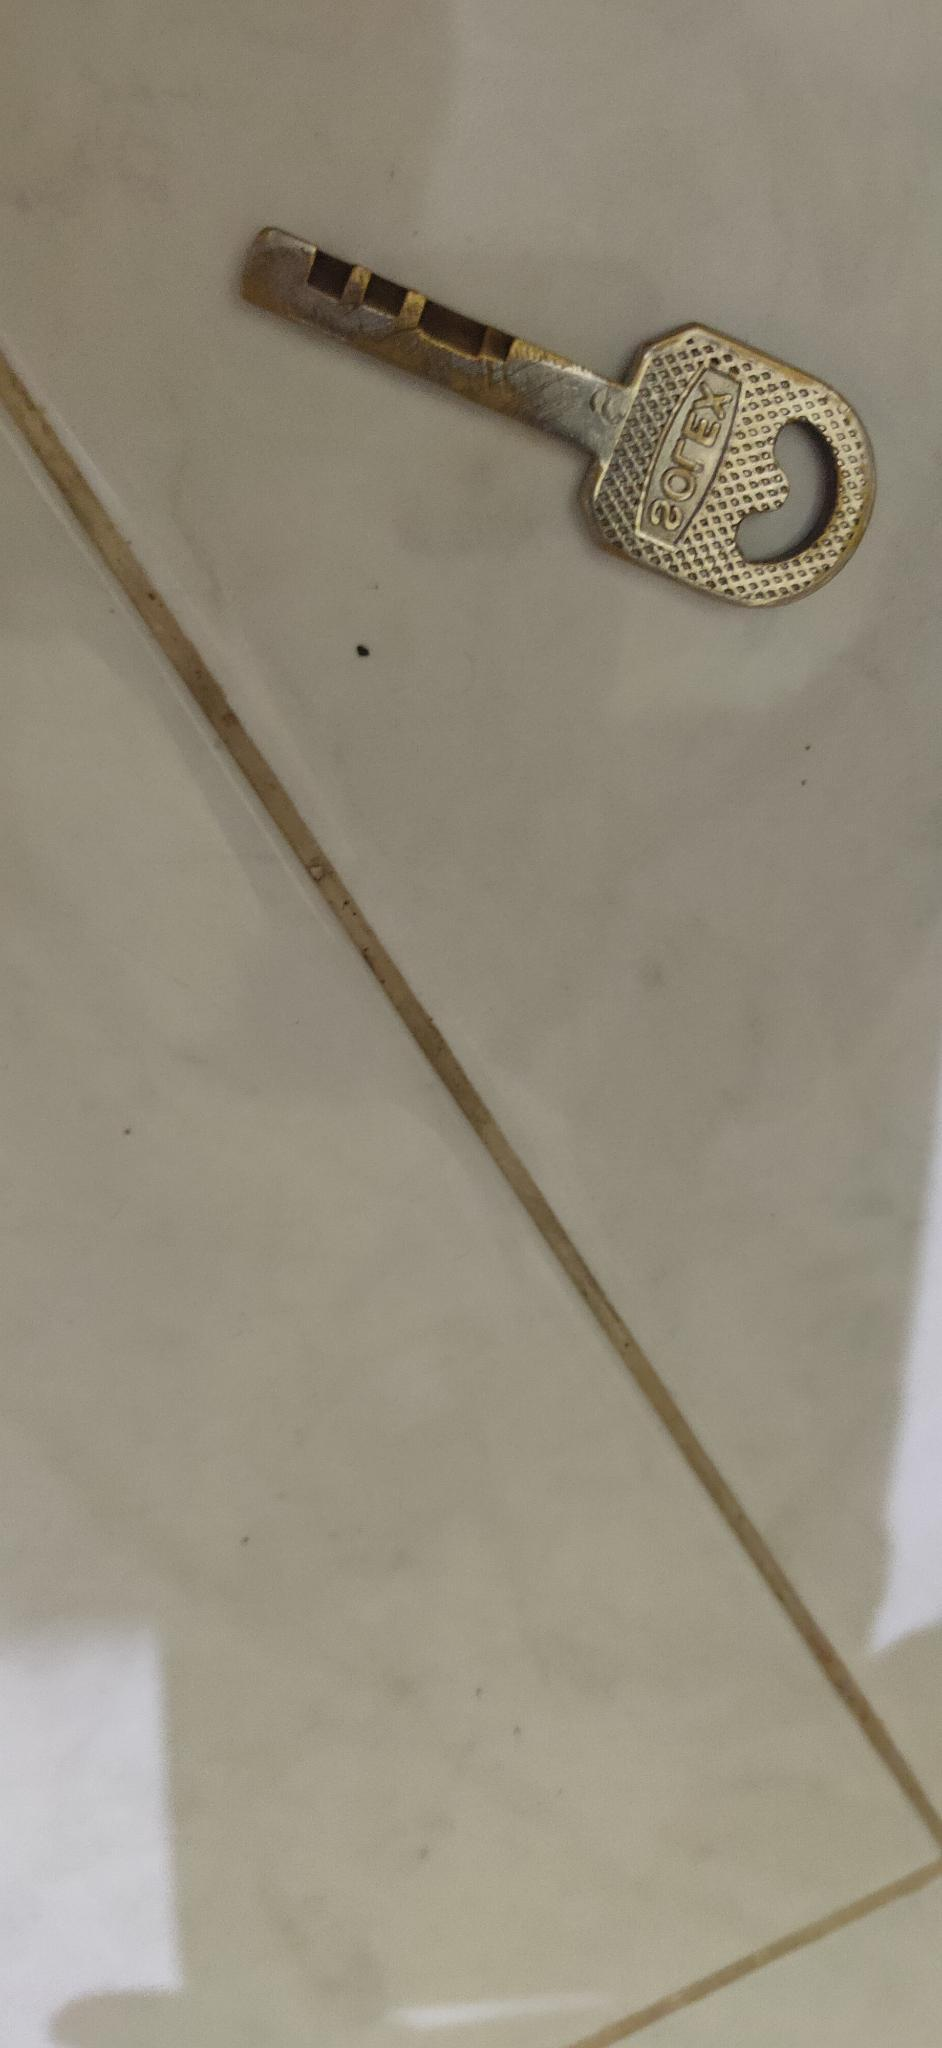keys: (205, 175, 869, 650)
